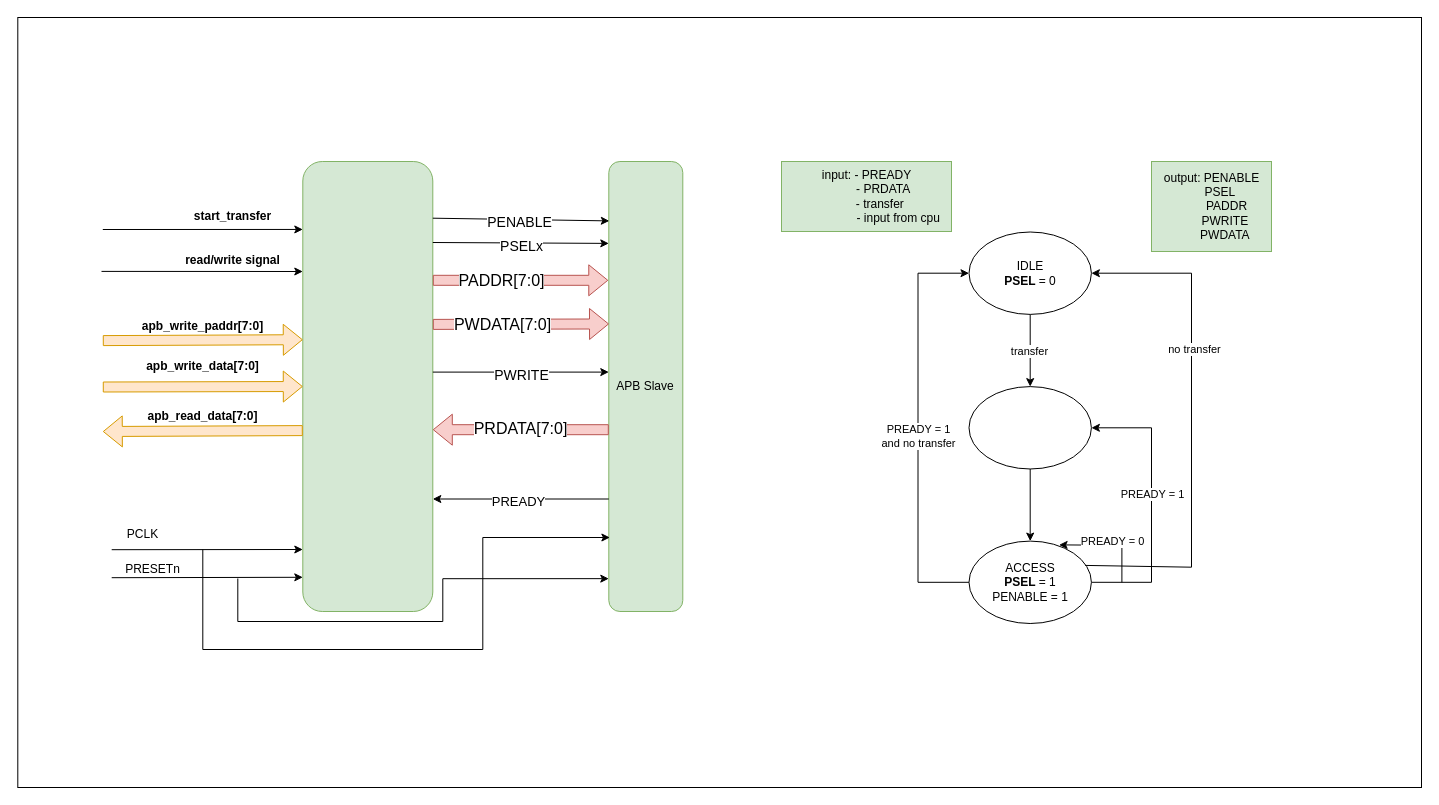
The diagram is 1439 pixels wide and 805 high, and some of its shapes have lost their labels. Here are the shapes that lost their labels. From the top down, the centre of each, then its label:
At point (367, 386): "APB Master/Bridge".
At point (1029, 427): "SETUP PSEL = 1 PENABLE = 0".
